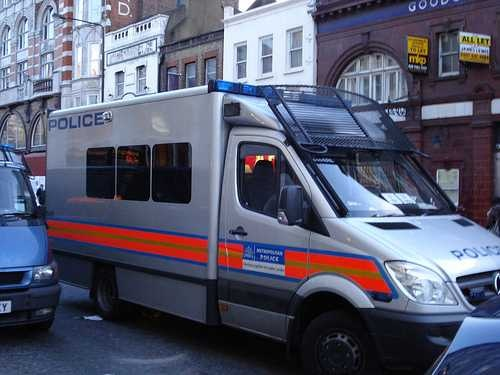Police Van: (29, 66, 500, 348)
